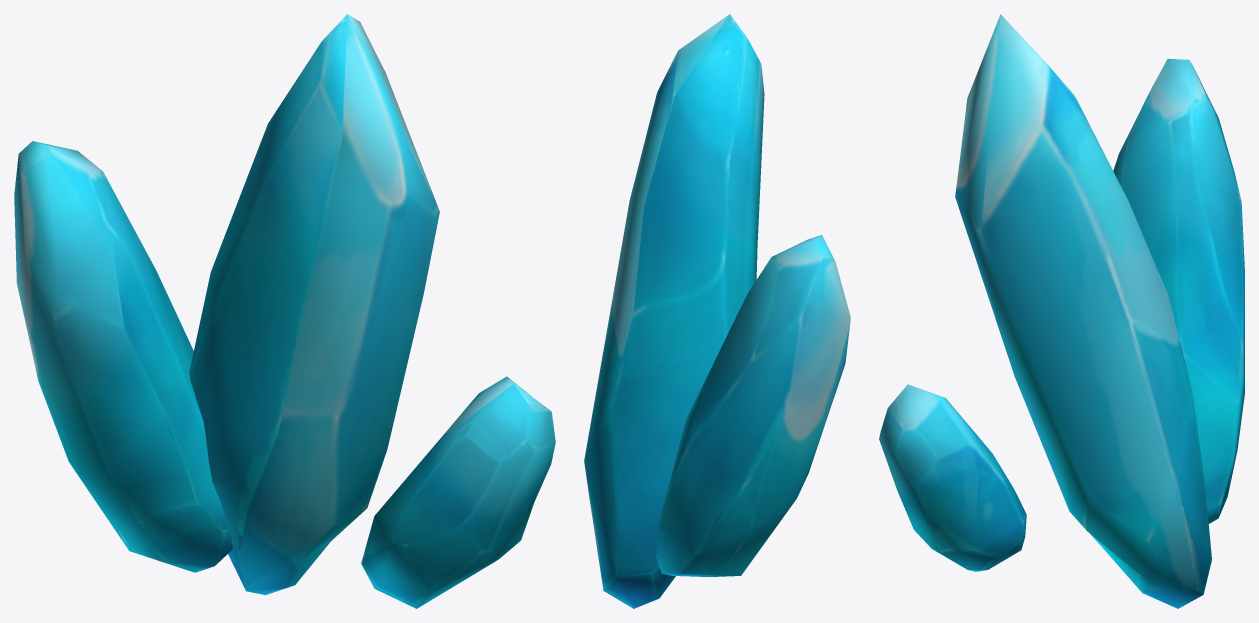
File: Ice_crystal_03.fbx
The picture shows the model from 3 angles, left to right: view 1: azimuth 30°, elevation 25°; view 2: azimuth 150°, elevation 25°; view 3: azimuth 270°, elevation 25°; orthographic projection. The views are drawn at different scales.
Parts seen in each view (by area): view 1: Ice_crystal_03; view 2: Ice_crystal_03; view 3: Ice_crystal_03.
Boxes of the visible parts, x1,y1,x2,y2 form: Ice_crystal_03: [14, 14, 555, 608]; Ice_crystal_03: [584, 14, 850, 608]; Ice_crystal_03: [879, 14, 1244, 608].
Bounding box in the file's own units: 245 × 395 × 223.
